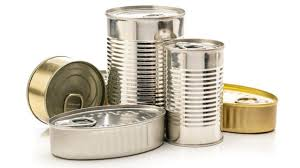can: (28, 1, 282, 159)
